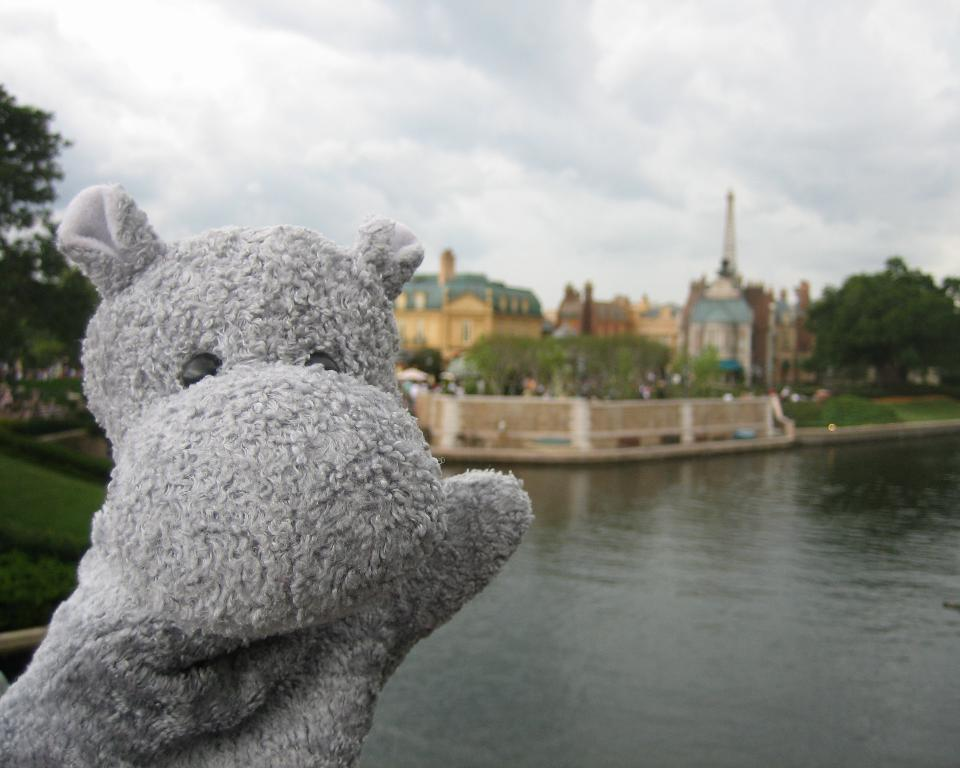Animal: (0, 173, 534, 764)
